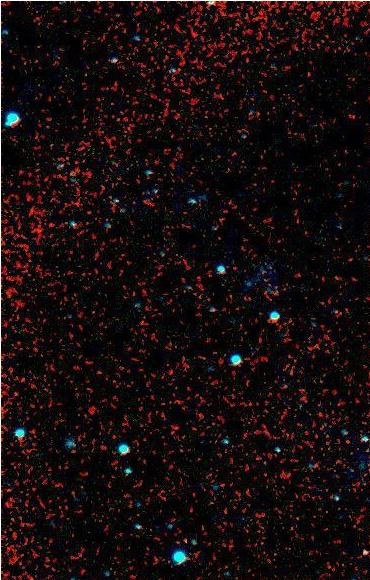star: (351, 542, 370, 572)
